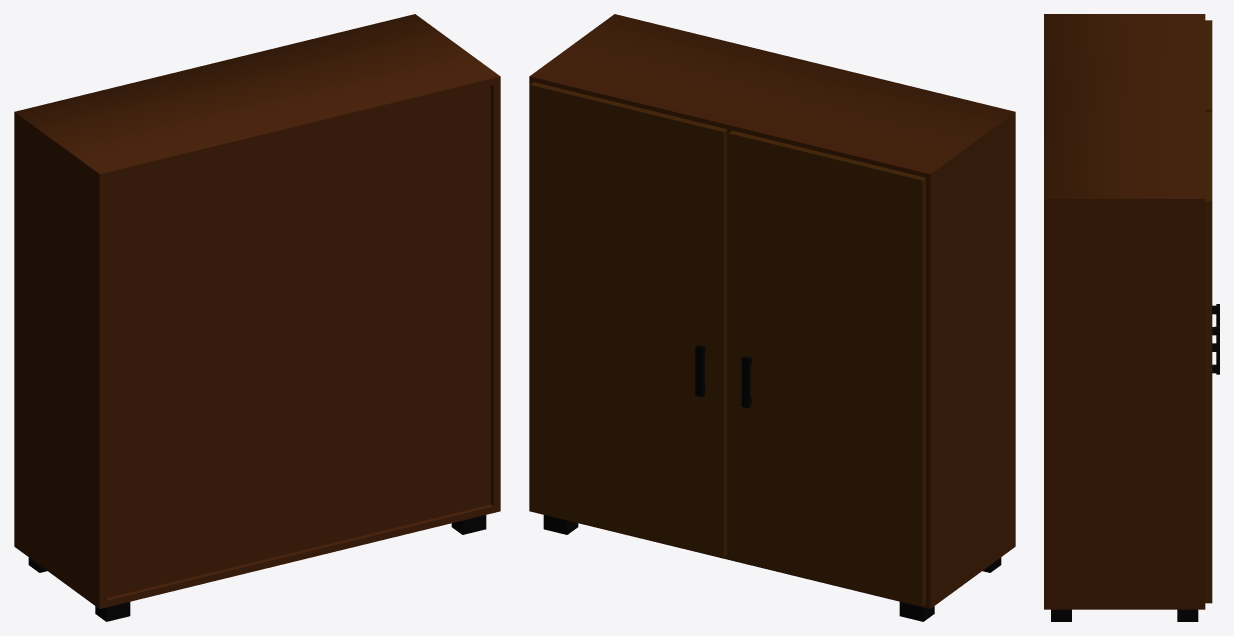
Rendered from Ropero.fbx.
The picture shows the model from 3 angles, left to right: view 1: azimuth 30°, elevation 25°; view 2: azimuth 150°, elevation 25°; view 3: azimuth 270°, elevation 25°; orthographic projection. The views are drawn at different scales.
Parts seen in each view (by area): view 1: Closet.001; view 2: Closet.001; view 3: Closet.001.
Boxes of the visible parts, bbox=[...] form: Closet.001: bbox=[14, 14, 500, 621]; Closet.001: bbox=[529, 14, 1015, 621]; Closet.001: bbox=[1044, 14, 1219, 621].
Bounding box in the file's own units: 174 × 187 × 69.85.
Materials: 1 (1 with a texture image).
